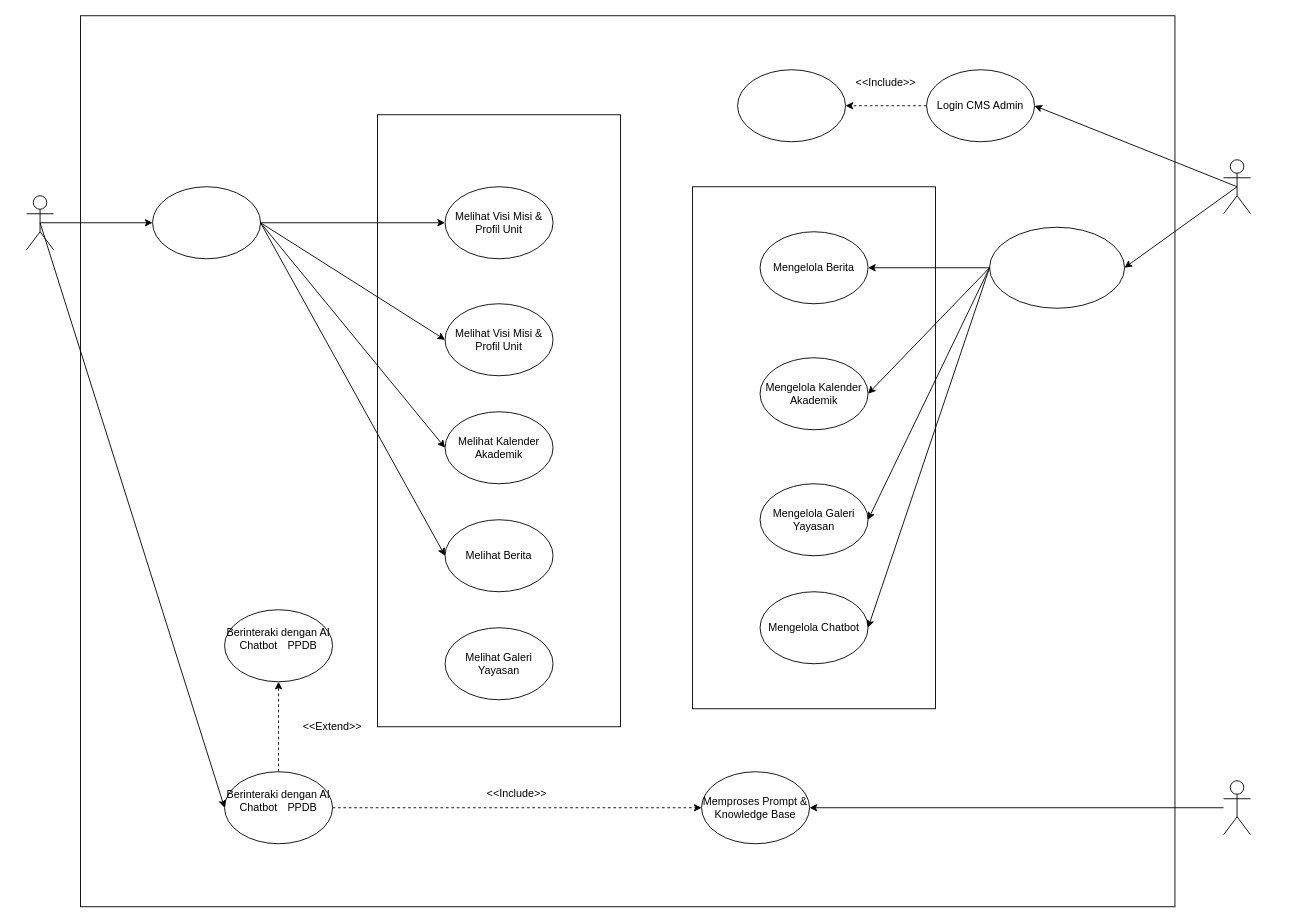
The diagram is 1291 pixels wide and 923 high, and some of its shapes have lost their labels. Here are the shapes that lost their labels. From the top down, the box of each, then its label:
(737, 69, 846, 142): Verifikasi Kredensial Login
(1223, 159, 1251, 214): Admin
(26, 195, 54, 250): Pengguna
(152, 186, 261, 259): Akses Profil Multi Unit TK,MI,MTS,SMK
(989, 226, 1125, 308): Mengelola Profil Informasi Multi UnitTK, MI, MTS, SMK
(1223, 780, 1251, 835): Sistem AI Agent
